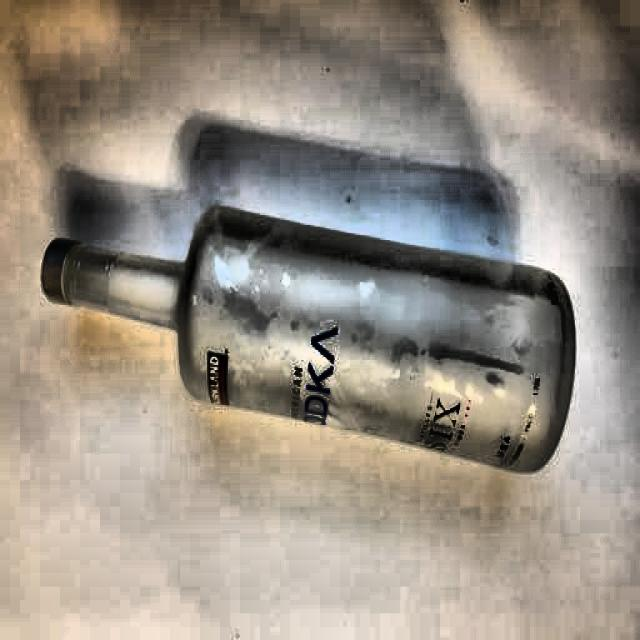glass: (36, 202, 574, 484)
